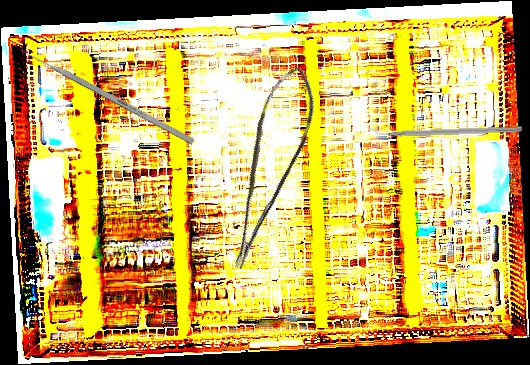Chopper: (367, 118, 523, 138)
Micro Scissor: (197, 60, 333, 273)
Pusher: (14, 44, 195, 145)
